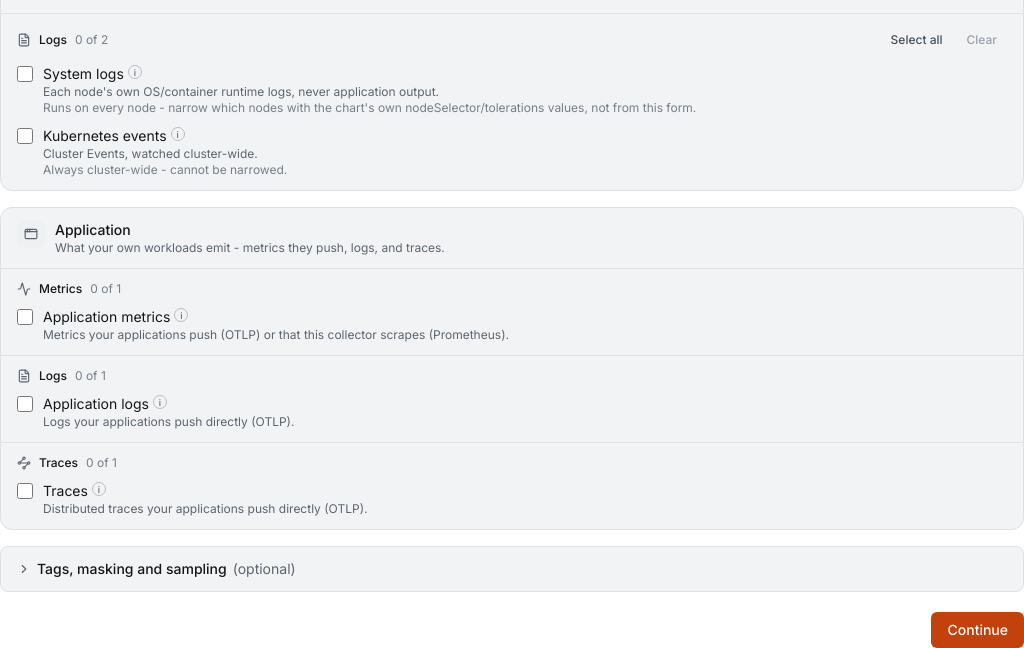
TelemetryPanel on an install that has telemetry › what the install does not report is said to be left as installed, not shown as if it were known
The image size is (1024, 648).
(page scrolled)
Click the button with test id "tp-guided-continue".
click(978, 630)  # box [932,612,1023,647]
(page scrolled)
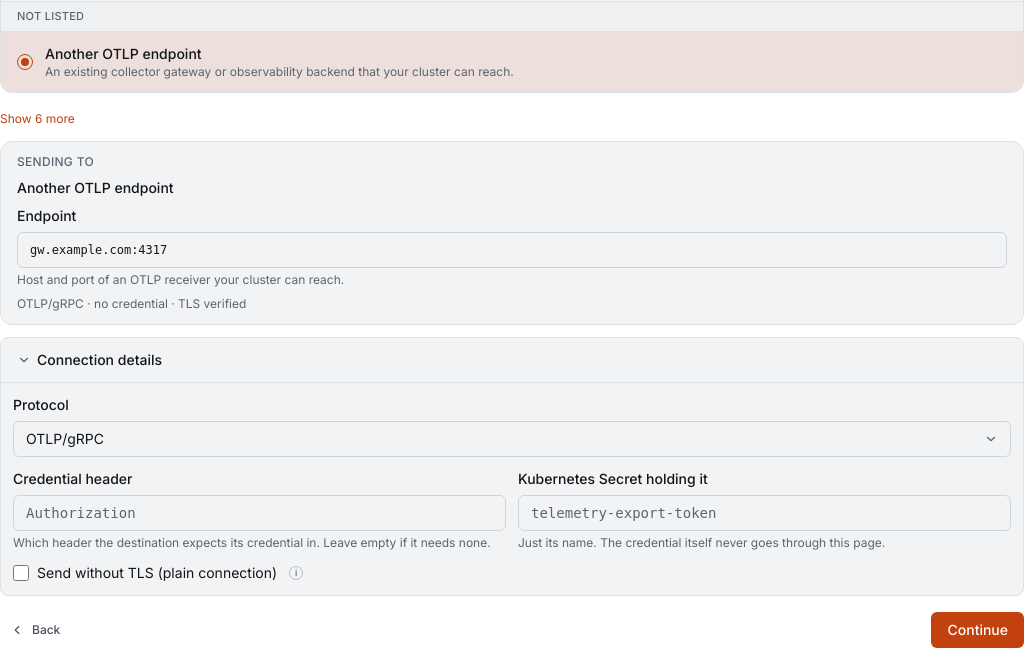
Click the button with test id "tp-guided-continue".
click(978, 630)  # box [932,612,1023,647]
(page scrolled)
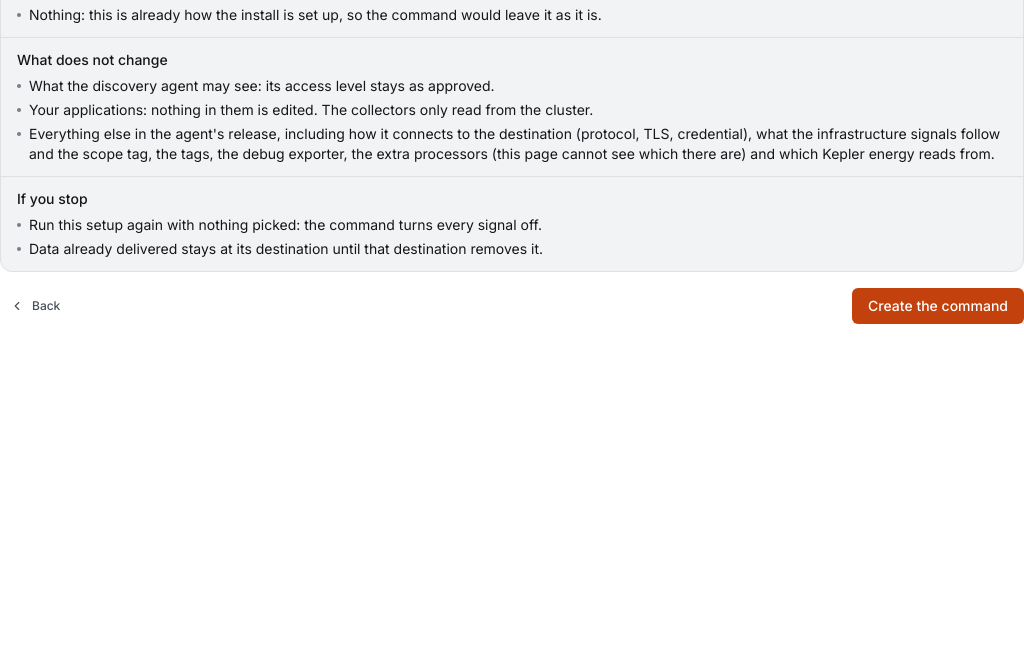
Check: the element with test id "tp-review-unchanged" shows "Everything else in the agent's release, including", box [29,125,1000,162]
Check: the element with test id "tp-review-unchanged" shows "extra processors", box [29,125,1000,162]
